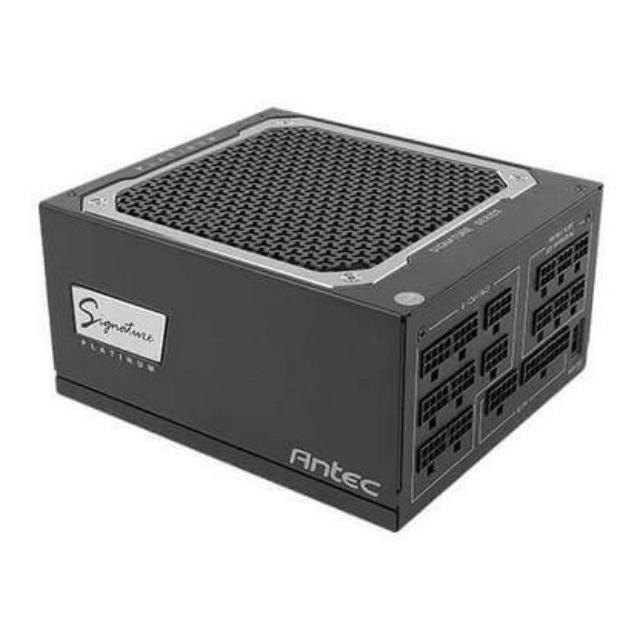PSU: (31, 100, 620, 542)
